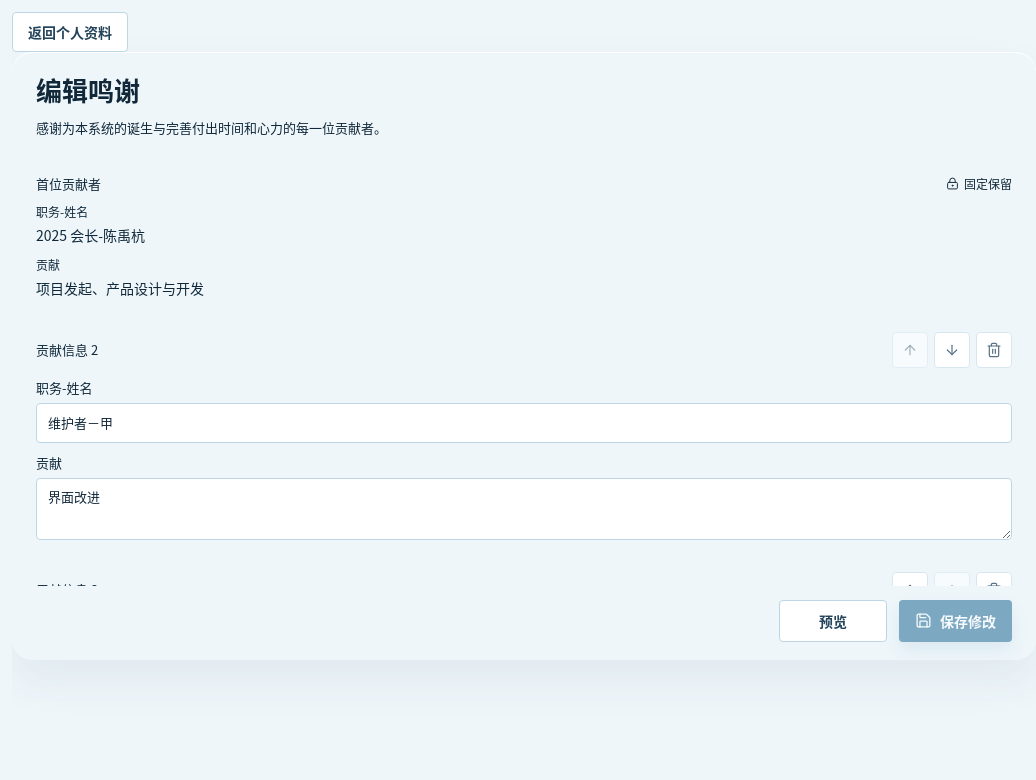
Test case: credits editor › reorders only additional entries and sends fixed values plus the loaded revision
The width and height of the screenshot is (1036, 780).
Click the button named "下移第2条" at (952, 350), box x1=934 y1=332 x2=970 y2=368
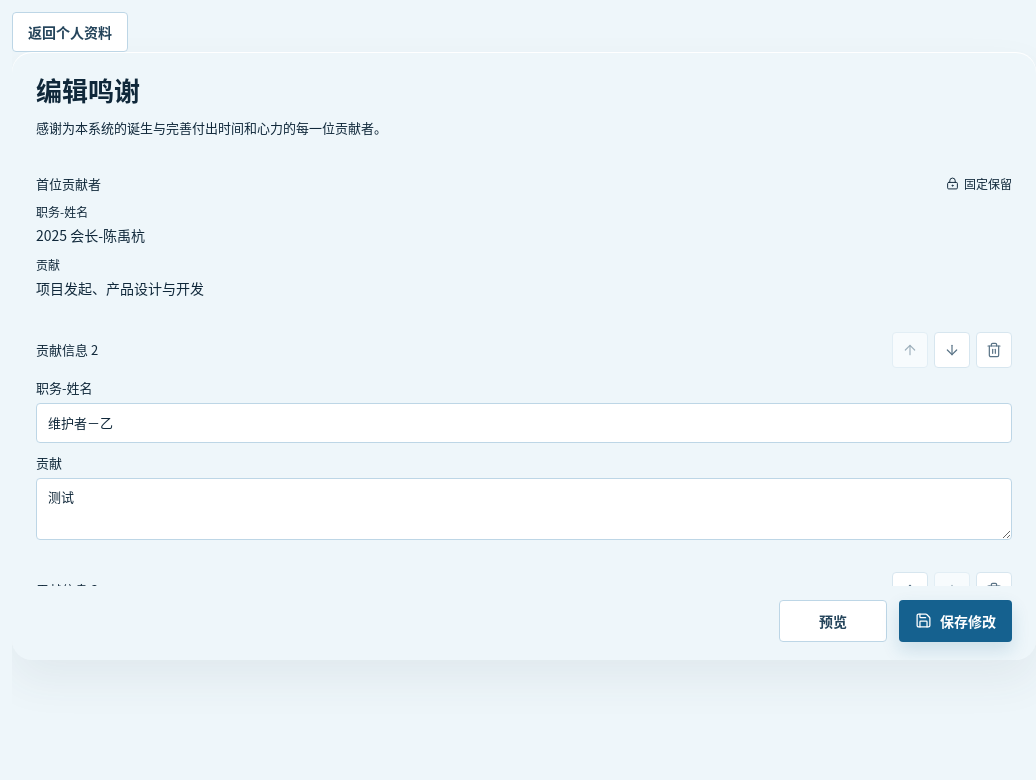
Submit the form
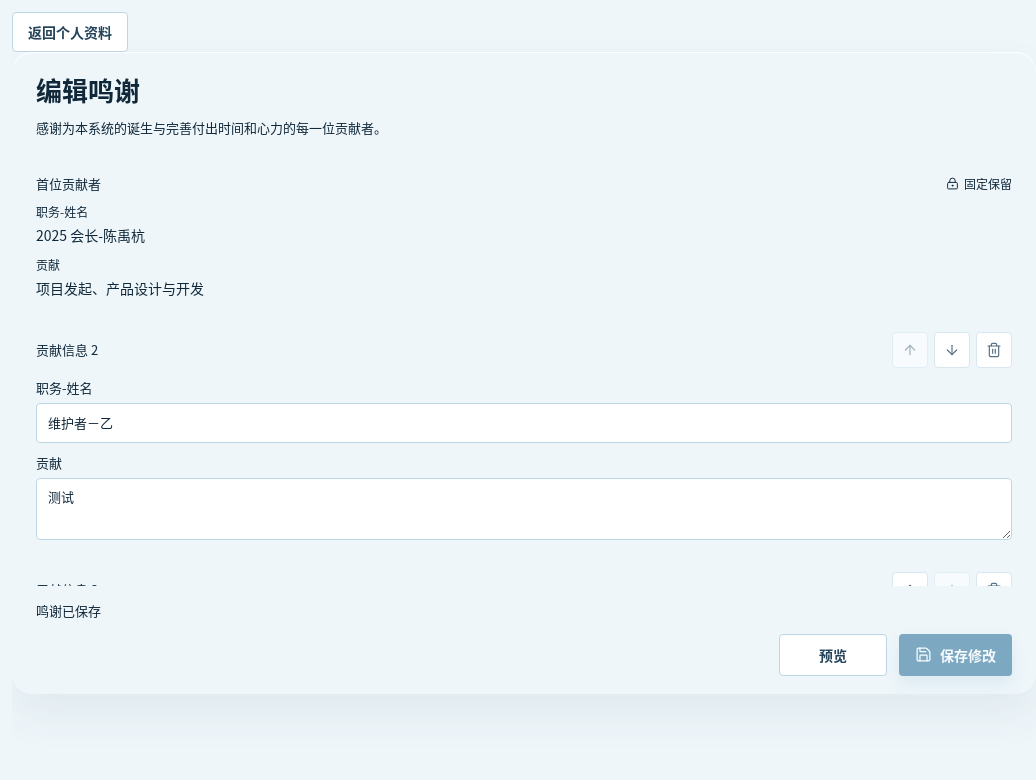
Now the text "鸣谢已保存" is shown, box x1=36 y1=601 x2=101 y2=620
